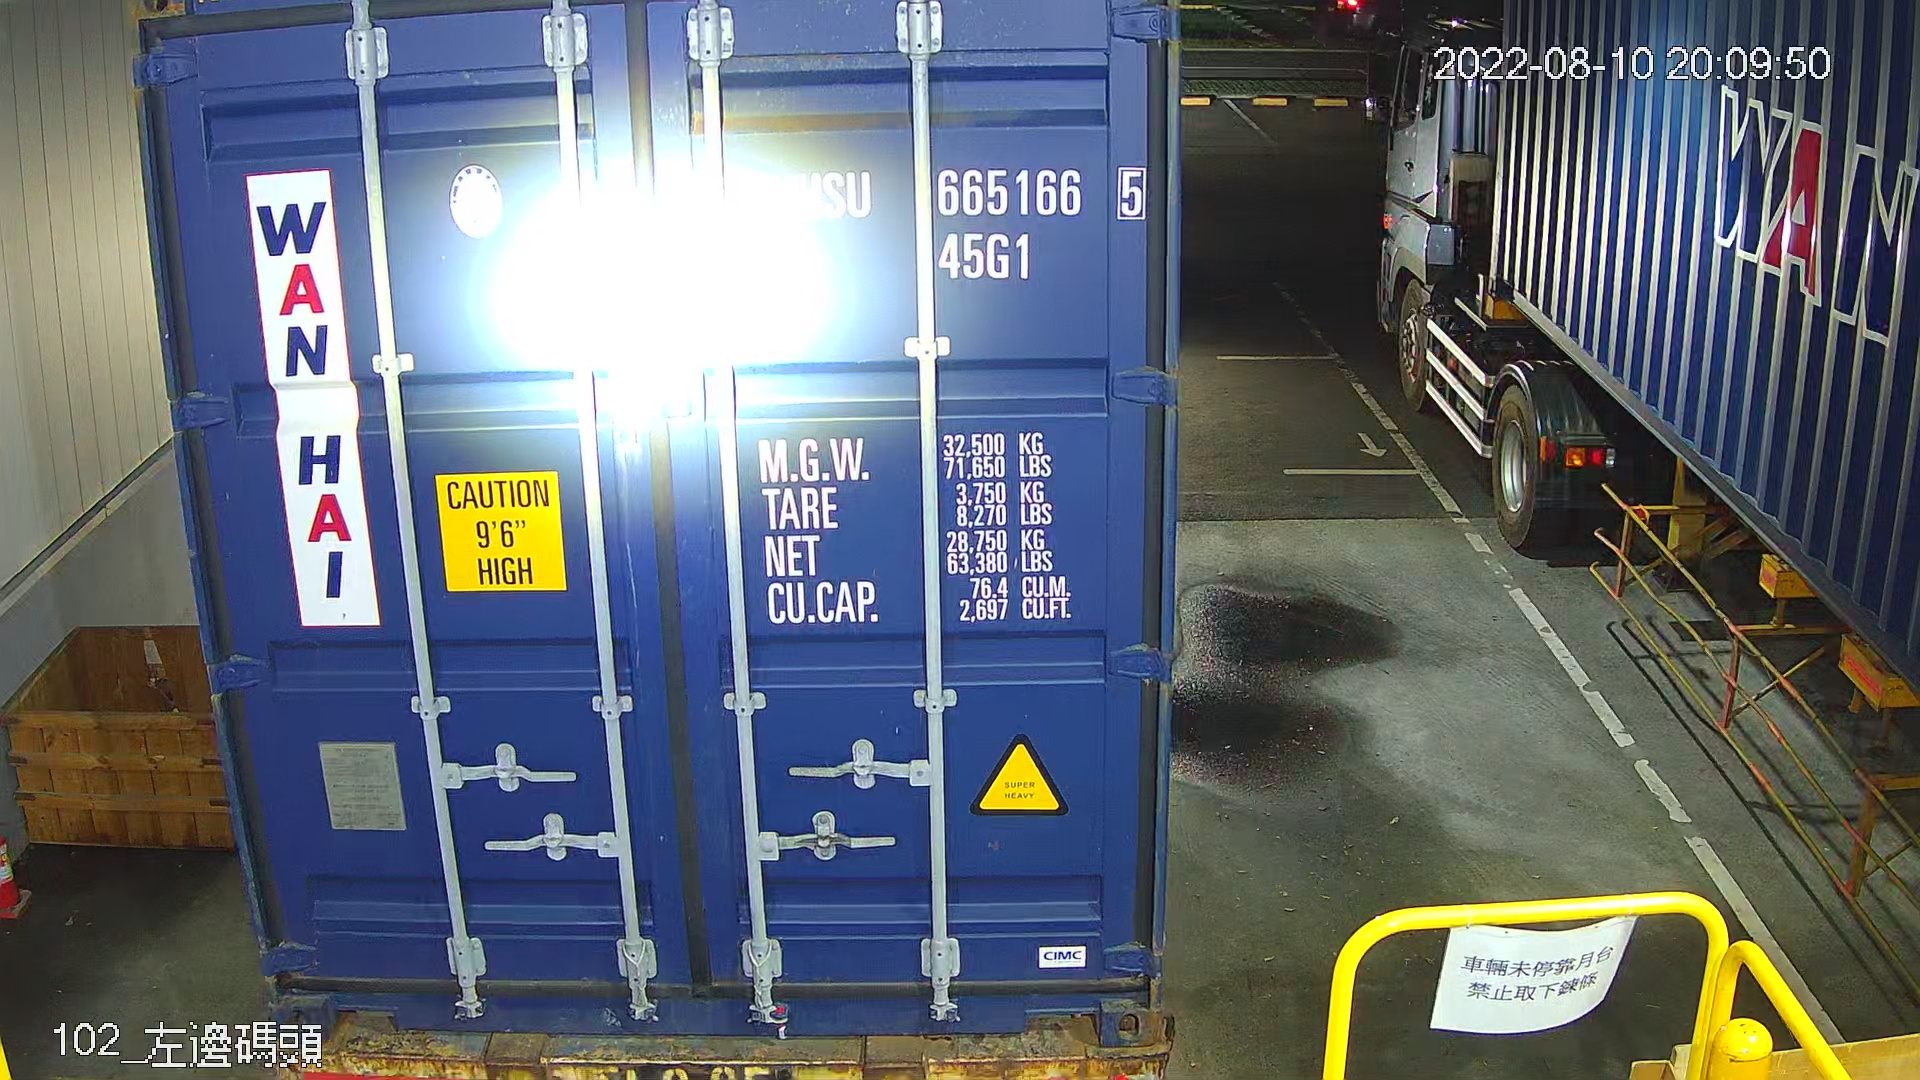container: (729, 156, 1159, 294)
